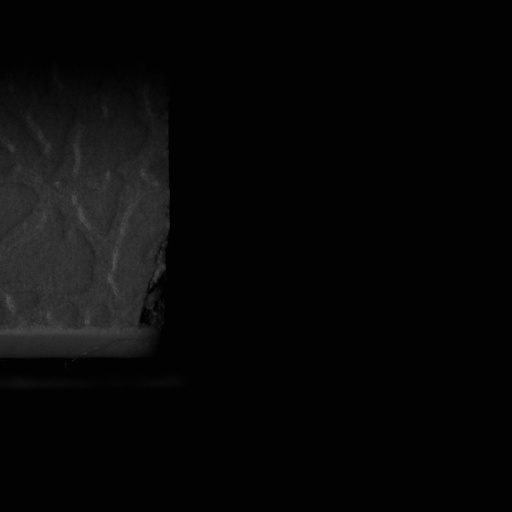bengque: (135, 244, 172, 333)
